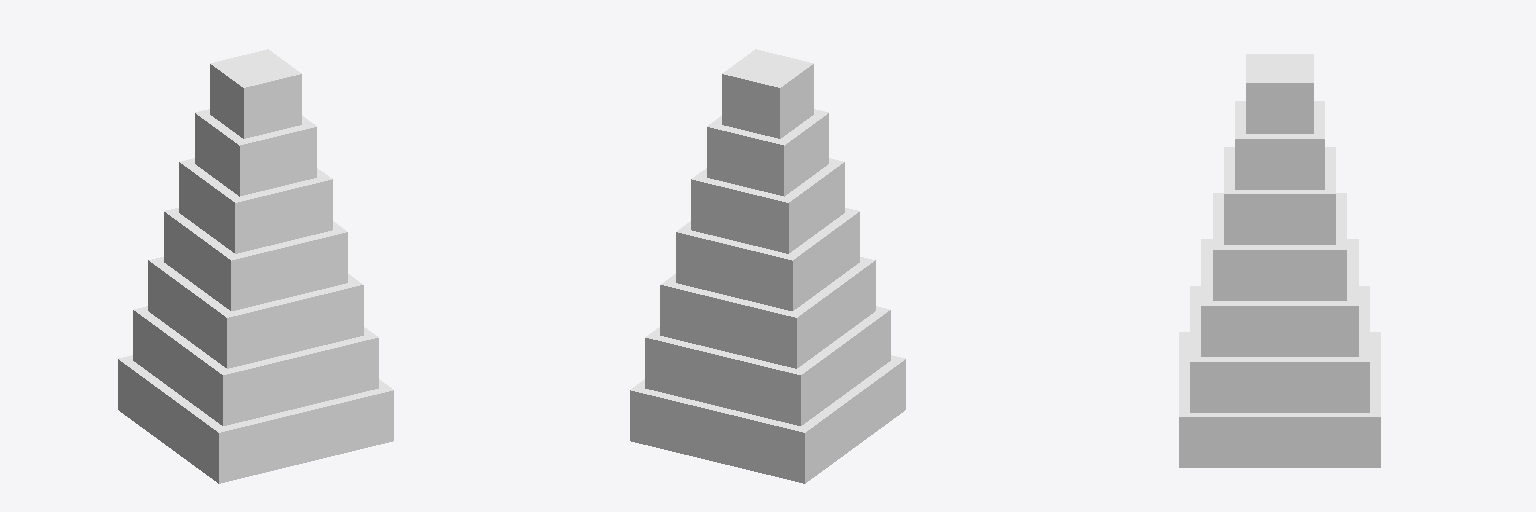
The model's file is Pino.obj.
3 renders of one model, left to right at view 1: azimuth 30°, elevation 25°; view 2: azimuth 150°, elevation 25°; view 3: azimuth 270°, elevation 25°, orthographic.
Parts seen in each view (by area): view 1: object 1; view 2: object 1; view 3: object 1.
Boxes of the visible parts, <box> form: object 1: <box>118,49,393,483</box>; object 1: <box>630,49,905,483</box>; object 1: <box>1179,54,1380,467</box>.
Size of the model in its own units: 7.2 by 14.7 by 7.2.